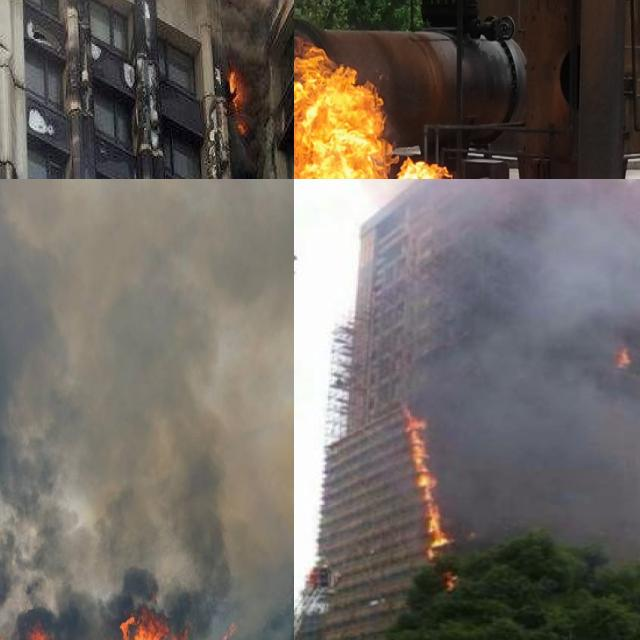fire: (294, 0, 531, 179), (0, 556, 186, 640), (394, 404, 454, 574), (222, 62, 258, 137), (608, 343, 630, 371)
smoke: (0, 179, 294, 640), (402, 179, 640, 548), (146, 0, 294, 179)
